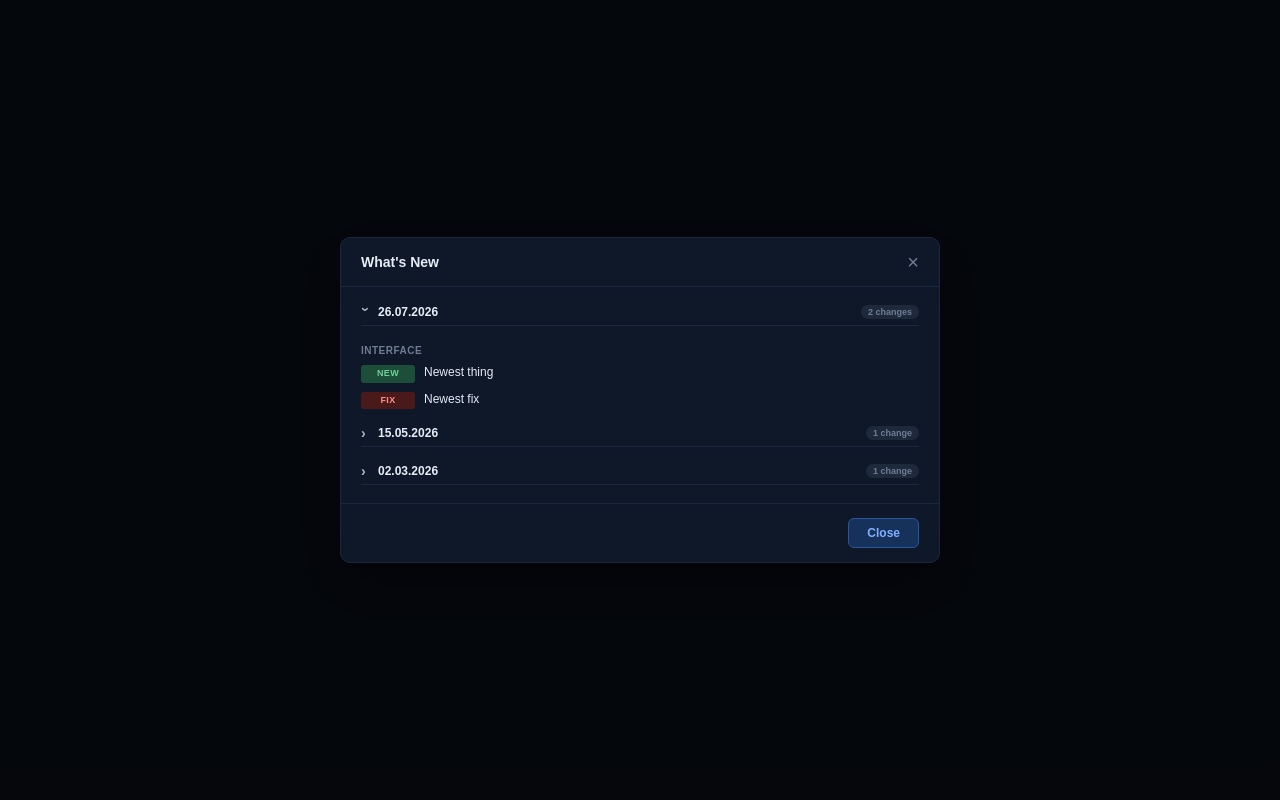
it: expands an older release without collapsing the newest
The image size is (1280, 800).
Click the button with class "wn-version" showing "› 15.05.2026 1 change". click: click(408, 433)
box: [361, 426, 919, 447]
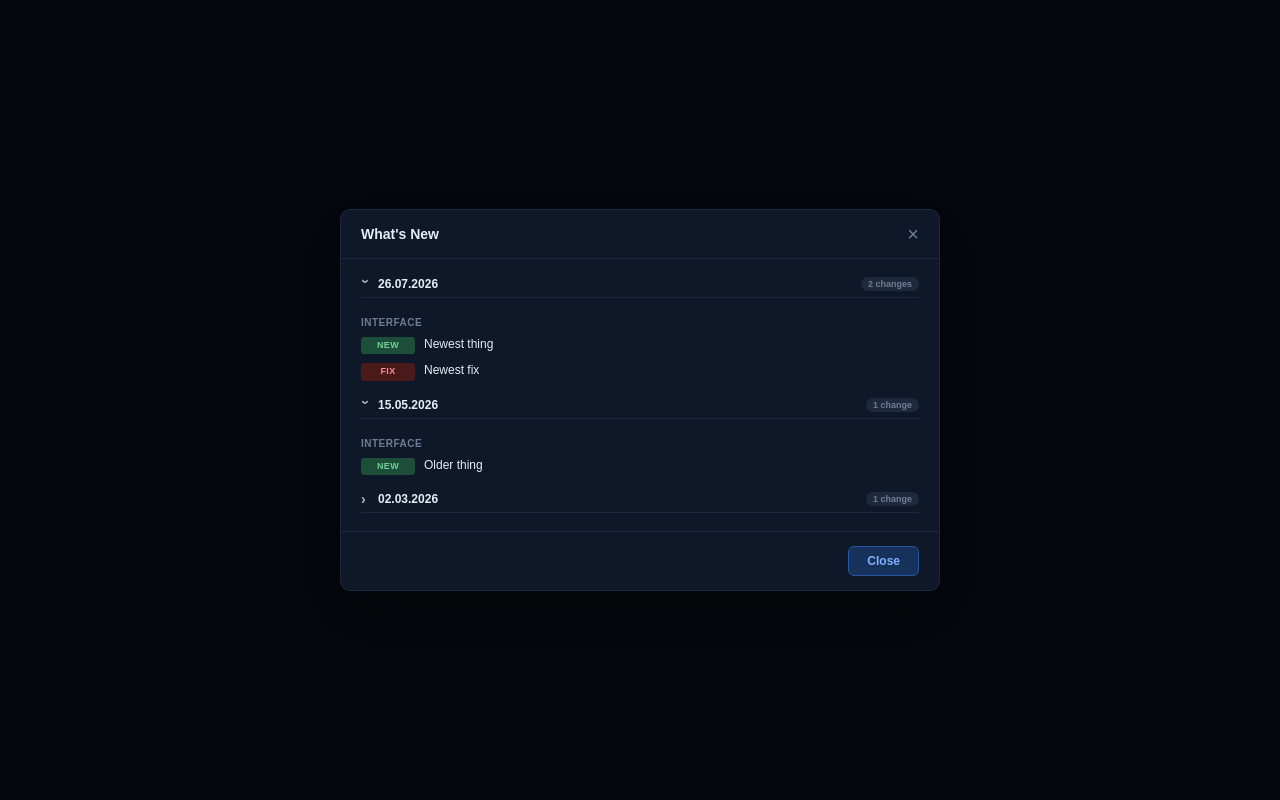
Expected: the text "Newest thing" is shown, [424, 335, 493, 353]
Expected: the text "Older thing" is shown, [424, 456, 483, 474]
